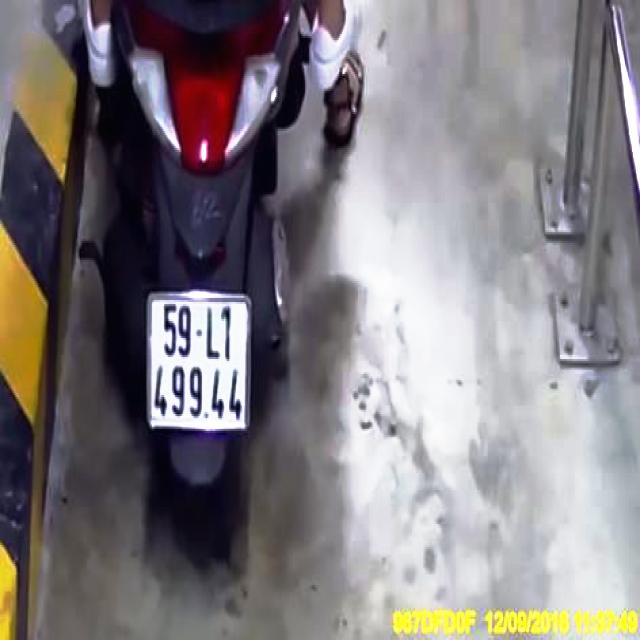license_plate: (147, 297, 252, 437)
